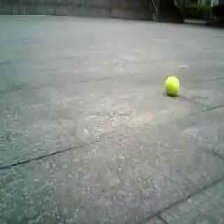tennis: (165, 77, 179, 93)
